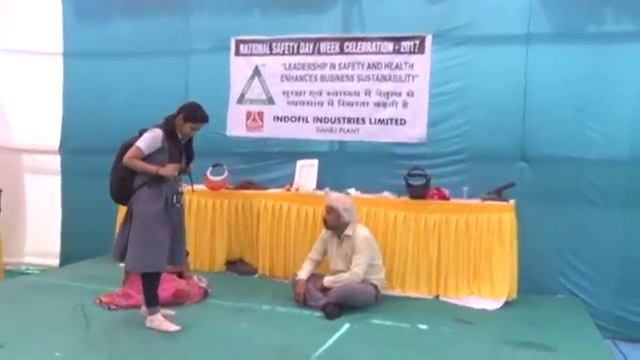helmet_off: (171, 105, 208, 139), (319, 198, 353, 234)
person: (108, 102, 210, 336), (292, 196, 384, 322)
